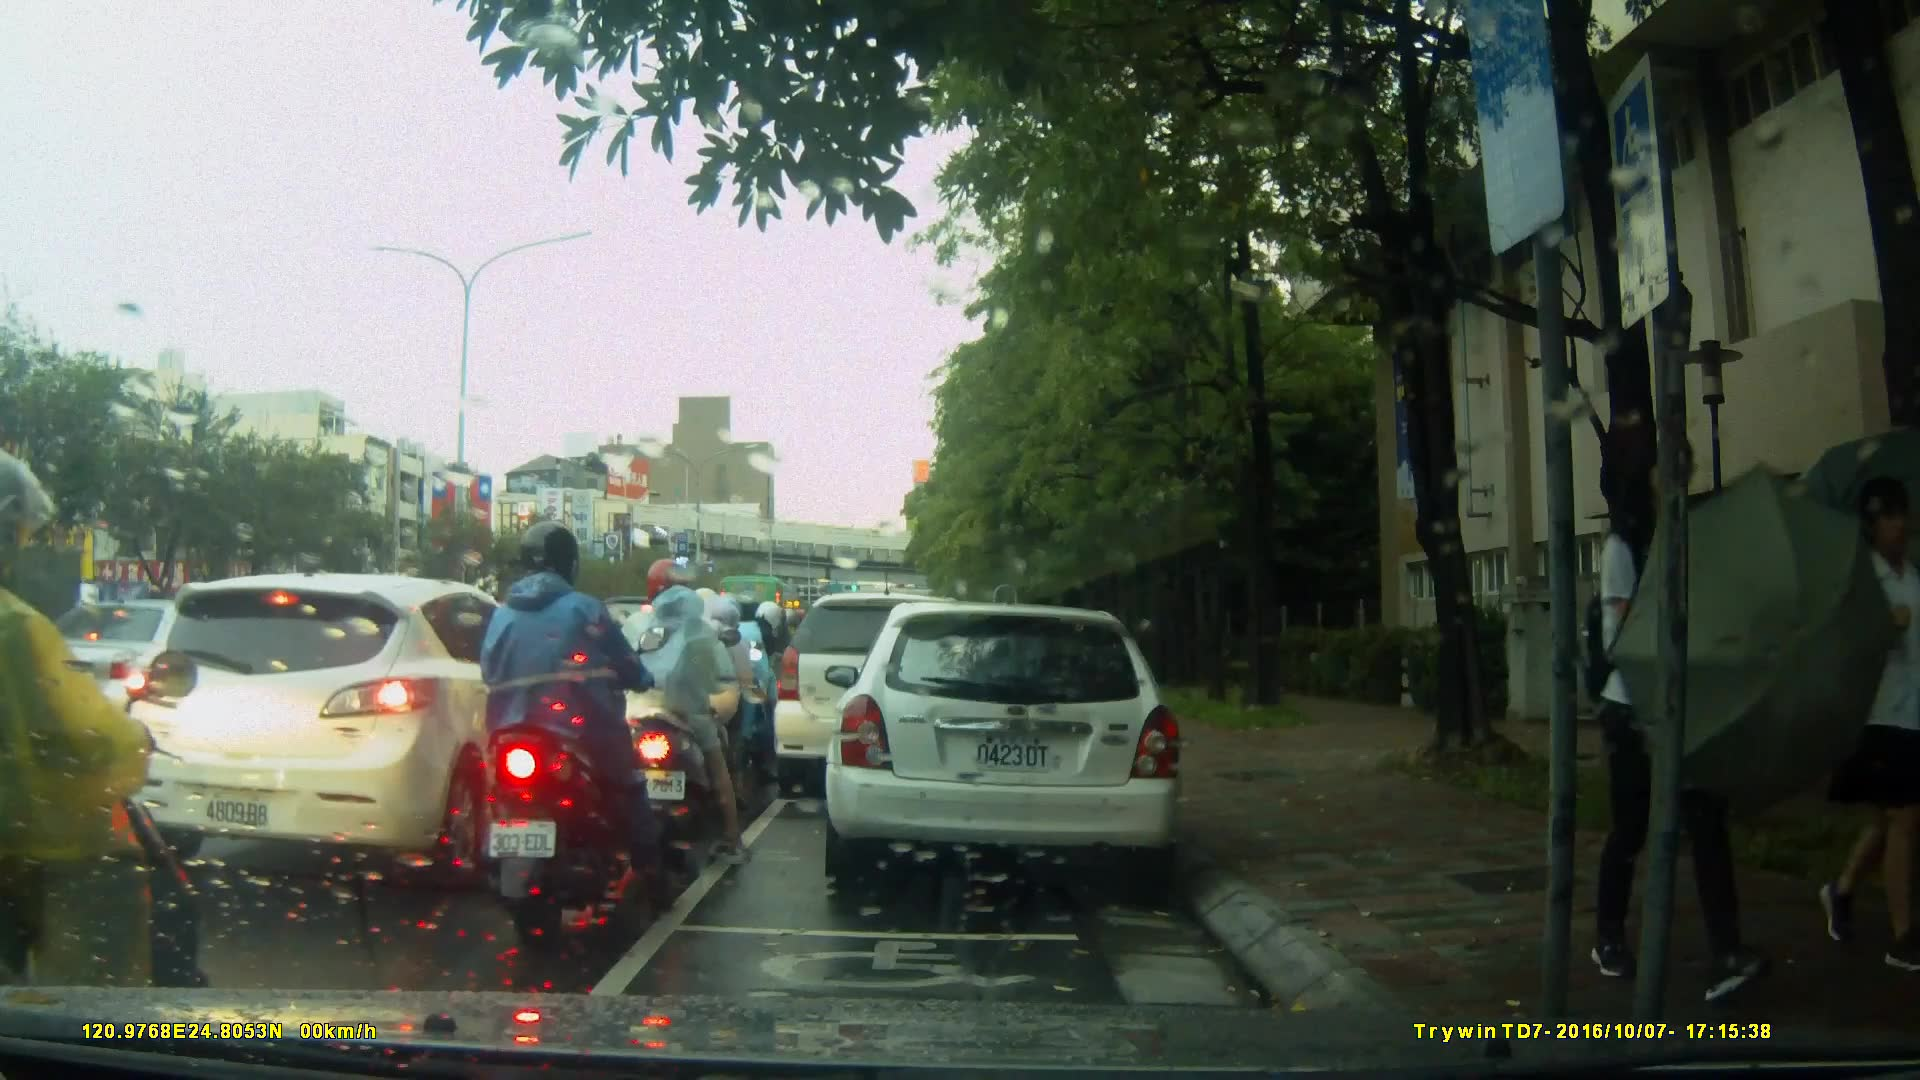pedestrian: (1593, 427, 1755, 994), (1813, 468, 1920, 980)
rider: (1, 456, 213, 1080), (464, 519, 666, 939), (595, 560, 743, 866), (642, 581, 764, 823), (717, 594, 788, 767)
vehicle: (110, 570, 588, 884), (822, 604, 1188, 883), (774, 595, 995, 802), (17, 599, 249, 731)
